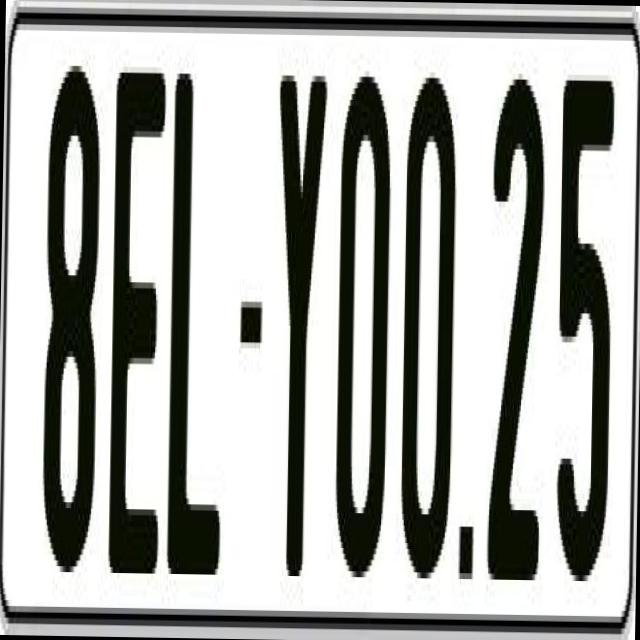0: (400, 65, 462, 590), (334, 76, 394, 601)
2: (485, 73, 552, 586)
5: (550, 68, 616, 604)
8: (38, 59, 98, 578)
E: (104, 54, 162, 573)
L: (166, 67, 232, 598)
Y: (268, 68, 324, 600)
